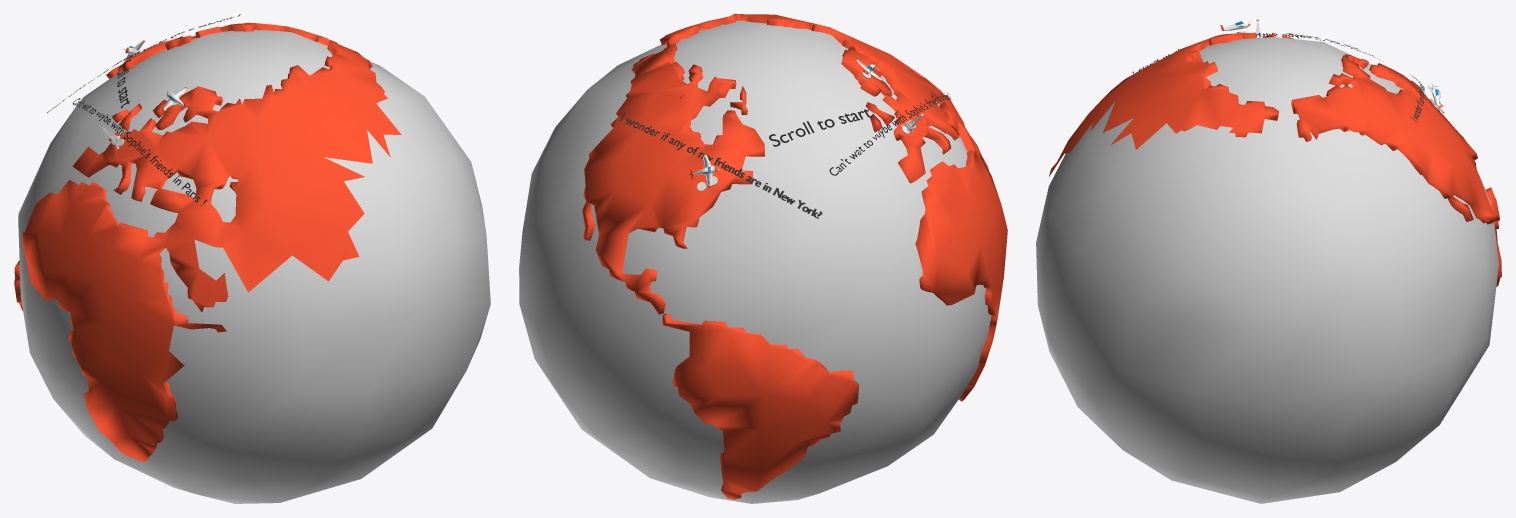
Rendered from planet.glb.
3 views of the same model, side by side, from view 1: azimuth 30°, elevation 25°; view 2: azimuth 150°, elevation 25°; view 3: azimuth 270°, elevation 25° (orthographic). The views are drawn at different scales.
Parts seen in each view (by area): view 1: Planet, Planet.001, Text3; view 2: Planet, Planet.001, Text, Text3; view 3: Planet, Planet.001.
Boxes of the visible parts, box(x1,y1,x2,y2) form: Planet: box(18, 29, 490, 503); Planet.001: box(14, 22, 401, 462); Text3: box(72, 98, 206, 205); Planet: box(519, 20, 991, 503); Planet.001: box(582, 14, 1007, 499); Text: box(619, 113, 822, 218); Text3: box(829, 92, 950, 175); Planet: box(1036, 37, 1498, 503); Planet.001: box(1049, 32, 1501, 286).
Size of the model in its own units: 74.21 by 73.76 by 73.6.
